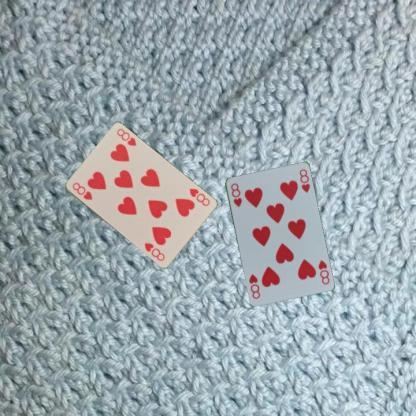8h: (69, 180, 94, 202), (187, 186, 211, 208), (316, 257, 330, 286), (228, 180, 242, 208)
